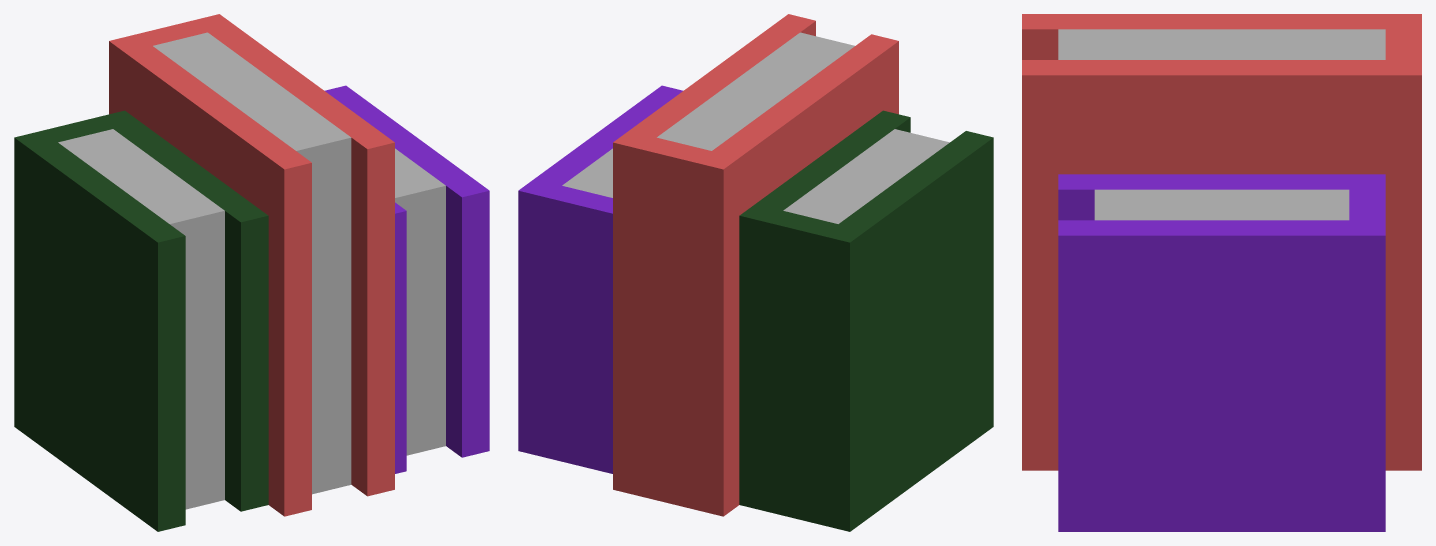
The model's file is books_01.dae.
3 renders of one model, left to right at view 1: azimuth 30°, elevation 25°; view 2: azimuth 150°, elevation 25°; view 3: azimuth 270°, elevation 25°, orthographic. The views are drawn at different scales.
Parts seen in each view (by area): view 1: Untitled; view 2: Untitled; view 3: Untitled.
Boxes of the visible parts, box(x1,y1,x2,y2) form: Untitled: box(14, 14, 489, 531); Untitled: box(518, 14, 993, 531); Untitled: box(1022, 14, 1421, 531).
Bounding box in the file's own units: 0.36 × 0.33 × 0.36.
Materials: 1 (1 with a texture image).
